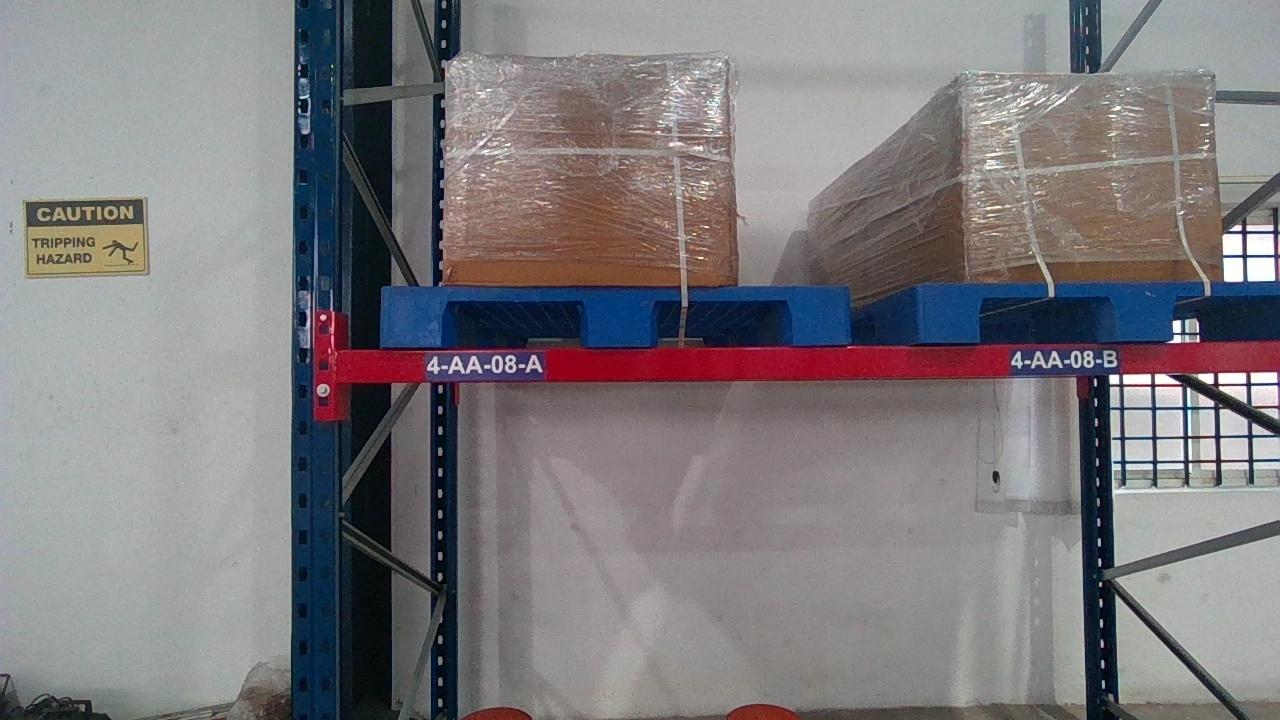h_rack: (336, 341, 1278, 380)
small_pallet: (375, 285, 850, 344), (915, 279, 1278, 339)
